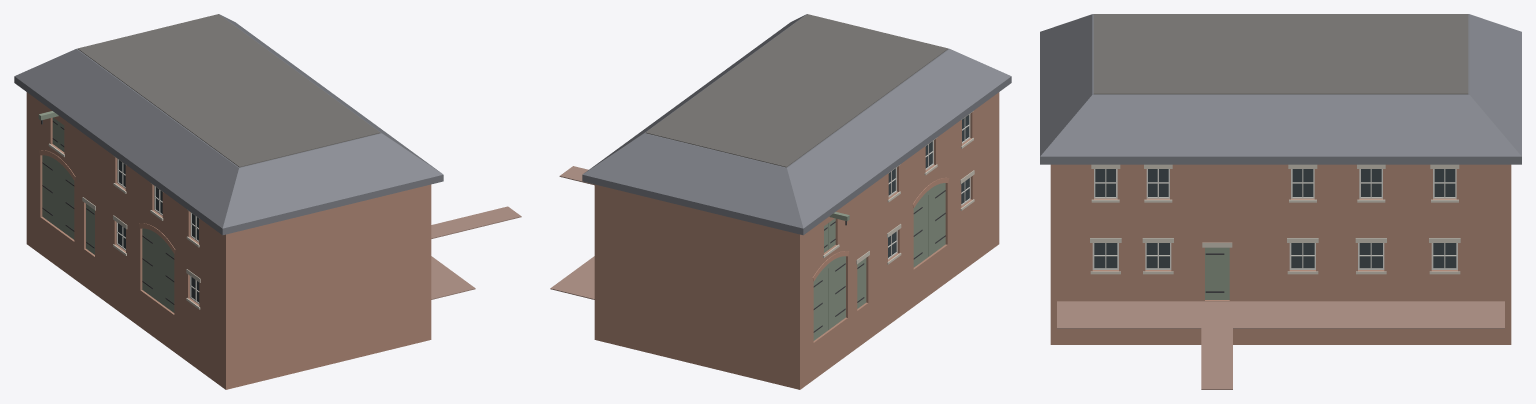
Rendered from moulton_lowden_house_1912_prairie_coach_house__as_standing_1904.glb.
The picture shows the model from 3 angles, left to right: view 1: azimuth 30°, elevation 25°; view 2: azimuth 150°, elevation 25°; view 3: azimuth 270°, elevation 25°; orthographic projection. The views are drawn at different scales.
Parts seen in each view (by area): view 1: moulton_lowden_house_1912_prairie_coach_house__as_standing_1; view 2: moulton_lowden_house_1912_prairie_coach_house__as_standing_1; view 3: moulton_lowden_house_1912_prairie_coach_house__as_standing_1.
Boxes of the visible parts, left/top/right/bottom form: moulton_lowden_house_1912_prairie_coach_house__as_standing_1: left=14, top=14, right=521, bottom=389; moulton_lowden_house_1912_prairie_coach_house__as_standing_1: left=550, top=14, right=1011, bottom=389; moulton_lowden_house_1912_prairie_coach_house__as_standing_1: left=1040, top=14, right=1521, bottom=389.
Size of the model in its own units: 19.24 by 9.79 by 18.33.
